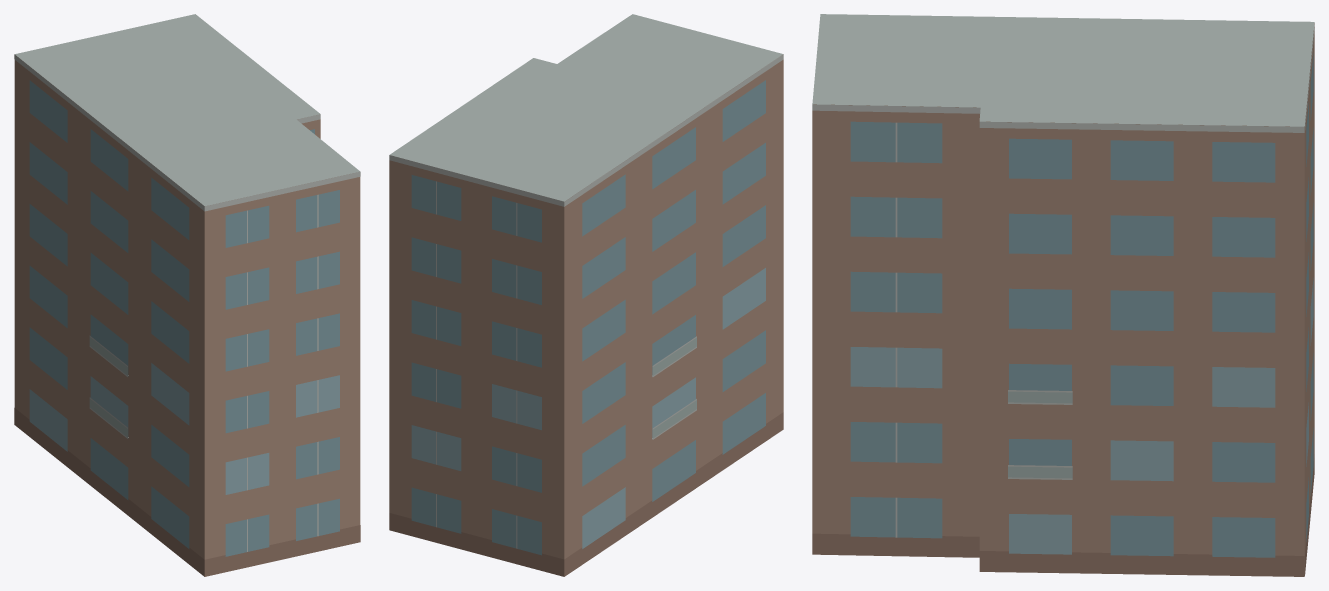
The model's file is survey-upis-32926097.glb.
3 views of the same model, side by side, from view 1: azimuth 30°, elevation 25°; view 2: azimuth 150°, elevation 25°; view 3: azimuth 270°, elevation 25° (orthographic). The views are drawn at different scales.
Parts seen in each view (by area): view 1: survey-upis-32926097.tmp; view 2: survey-upis-32926097.tmp; view 3: survey-upis-32926097.tmp.
Boxes of the visible parts, bbox=[...] form: survey-upis-32926097.tmp: bbox=[14, 14, 360, 576]; survey-upis-32926097.tmp: bbox=[389, 14, 783, 576]; survey-upis-32926097.tmp: bbox=[812, 14, 1314, 576].
Size of the model in its own units: 9.35 by 17.4 by 17.6.
